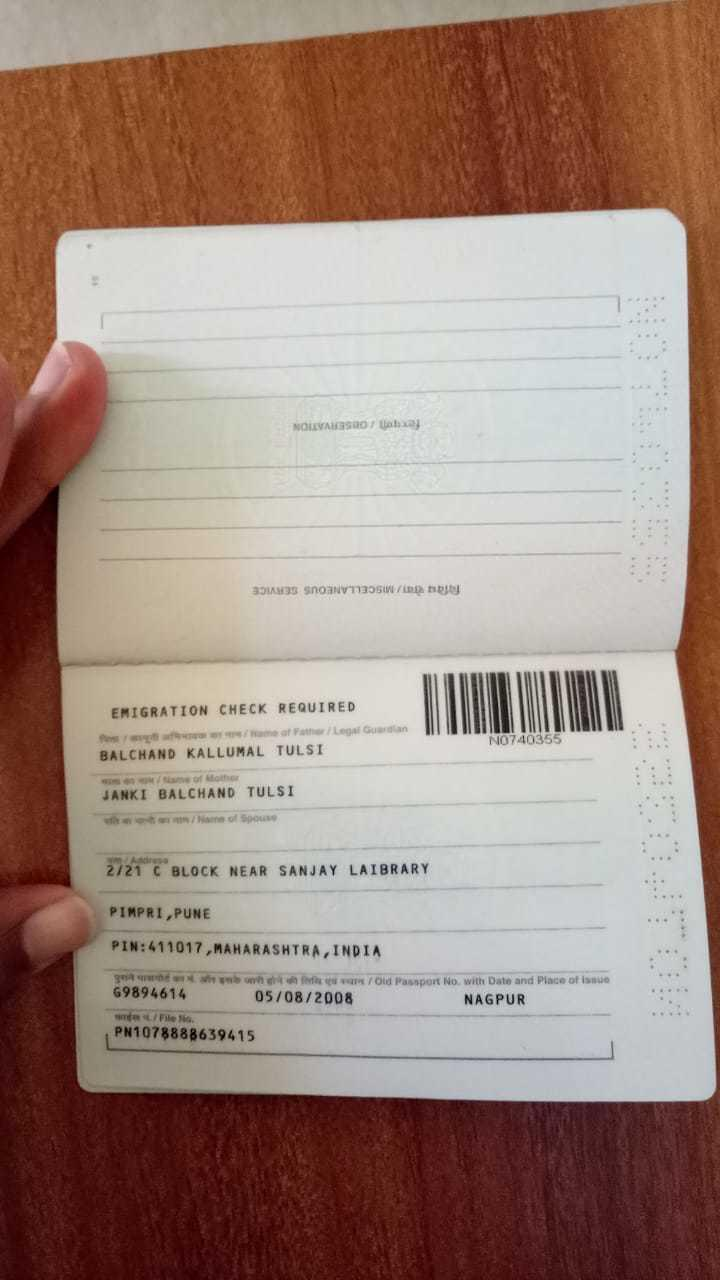File_no: (112, 1019, 262, 1049)
address: (95, 861, 455, 971)
father_name: (87, 742, 345, 766)
mother_name: (98, 779, 329, 808)
old_passport_details: (93, 975, 567, 1014)
passport_no: (480, 729, 563, 751)
